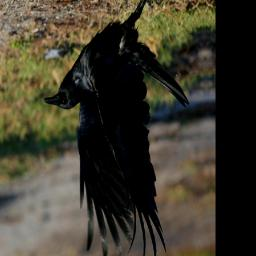Crow: (37, 0, 198, 256)
